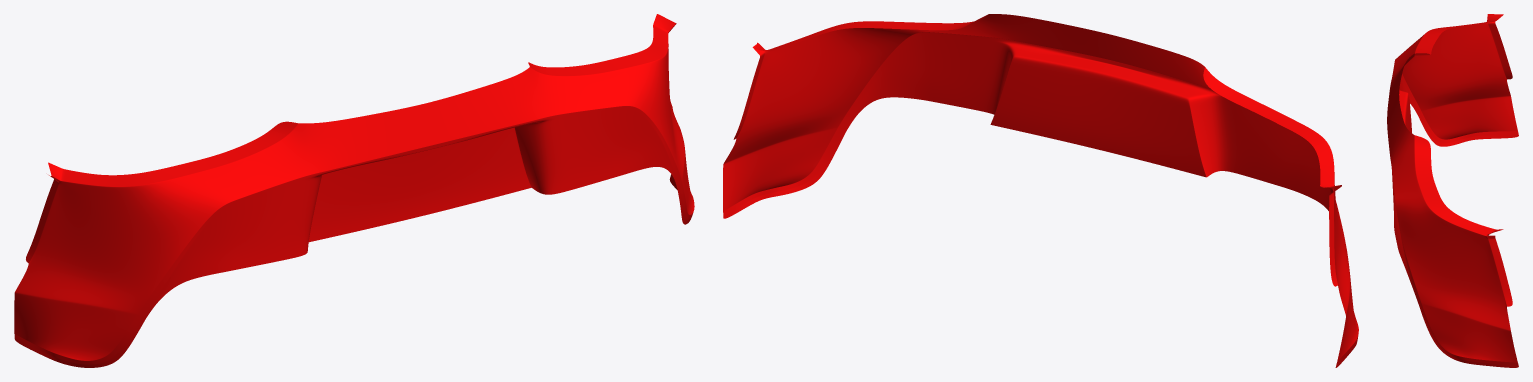
The model's file is MK5backbumper.glb.
3 views of the same model, side by side, from view 1: azimuth 30°, elevation 25°; view 2: azimuth 150°, elevation 25°; view 3: azimuth 270°, elevation 25° (orthographic). The views are drawn at different scales.
Parts seen in each view (by area): view 1: Object_30; view 2: Object_30; view 3: Object_30.
Part boxes in pixels (x1,y1,x2,y2): Object_30: (14,14,694,367); Object_30: (723,14,1358,367); Object_30: (1387,14,1518,367).
Size of the model in its own units: 1.11 by 0.3499 by 0.2635.
